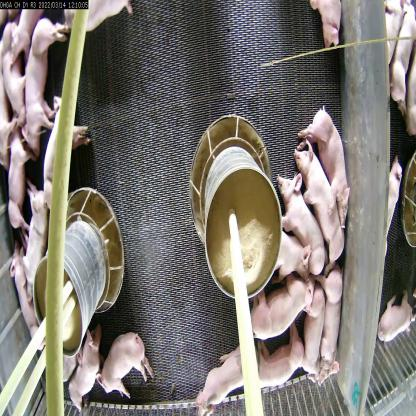Pig: (306, 80, 361, 229), (289, 119, 345, 262), (186, 330, 252, 416), (272, 171, 324, 280), (26, 17, 64, 166), (2, 240, 43, 362), (48, 92, 92, 205), (248, 275, 314, 344), (249, 320, 303, 404), (98, 327, 152, 409), (385, 6, 416, 122), (66, 327, 105, 416), (303, 0, 352, 65), (0, 118, 25, 235), (319, 270, 341, 388), (26, 177, 50, 284), (1, 36, 29, 120), (268, 221, 312, 272), (304, 287, 324, 384)
